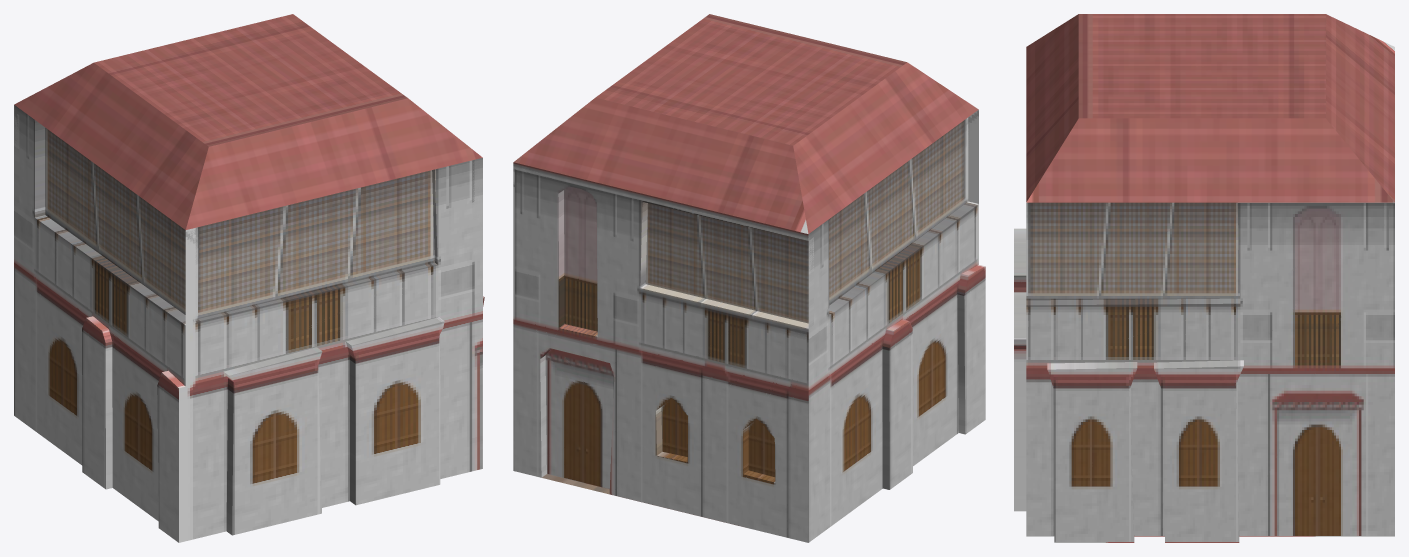
Rendered from House12.fbx.
The picture shows the model from 3 angles, left to right: view 1: azimuth 30°, elevation 25°; view 2: azimuth 150°, elevation 25°; view 3: azimuth 270°, elevation 25°; orthographic projection. The views are drawn at different scales.
Parts seen in each view (by area): view 1: Cube; view 2: Cube; view 3: Cube.
Part boxes in pixels (x1=…): Cube: x1=14, y1=14, x2=484, y2=542; Cube: x1=513, y1=14, x2=985, y2=542; Cube: x1=1014, y1=14, x2=1394, y2=542.
Size of the model in its own units: 212 by 235 by 207.
Materials: 1 (1 with a texture image).
